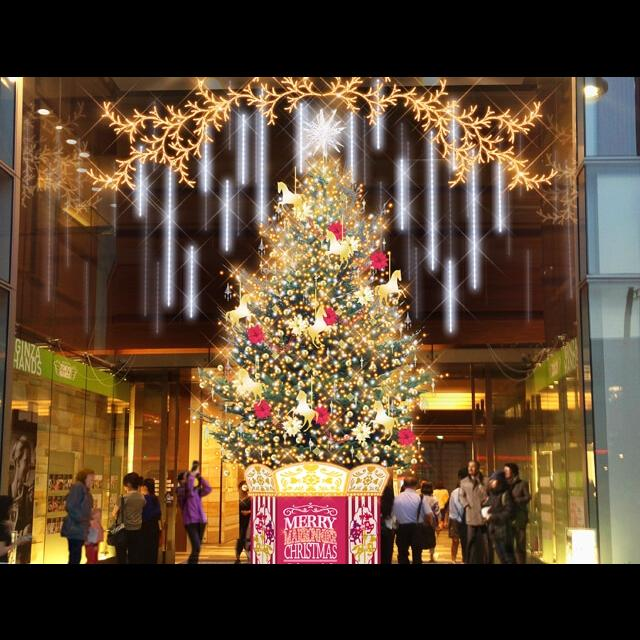head: (489, 472, 507, 490), (80, 468, 96, 486), (124, 473, 140, 491), (0, 494, 14, 514), (179, 470, 195, 486), (504, 462, 520, 478), (405, 475, 419, 491), (468, 460, 482, 476), (142, 478, 154, 494), (92, 509, 104, 523), (239, 480, 251, 492), (422, 484, 434, 496), (462, 479, 471, 489), (436, 480, 444, 488)
person: (429, 482, 451, 530)
